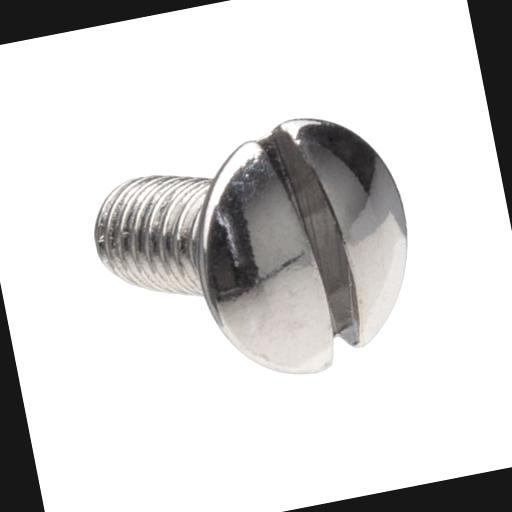Slotted: (170, 95, 440, 398)
